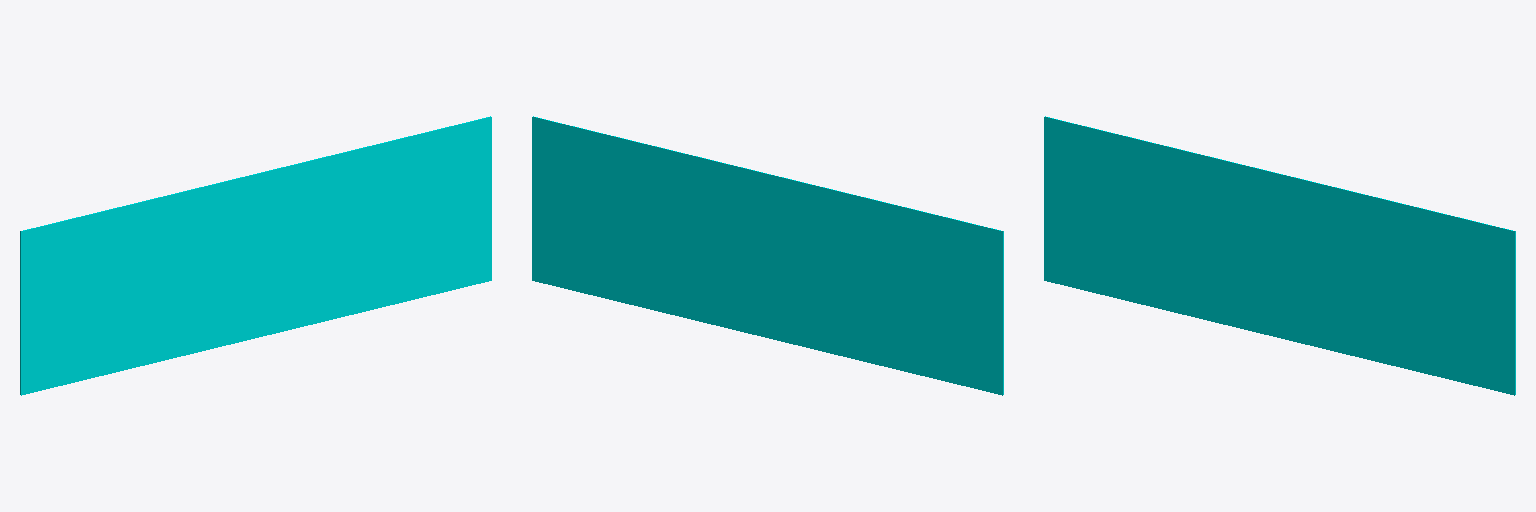
robot.urdf — ball:
<?xml version="0.0" ?>
<robot name="ball">
    <link name="wall">
        <contact>
            <lateral_friction value="1"/>
        </contact>

        <inertial>
            <origin xyz="0 0 0" rpy="0 0 0"/>
            <mass value="0.0"/>
            <inertia ixx="0"  ixy="0"  ixz="0" iyy="0" iyz="0" izz="0" />
        </inertial>

        <visual>
            <origin xyz="0 0 0" rpy="0 0 0" />
            <geometry>
                <box size="6 0.01 2" />
            </geometry>
            <material name="Cyan">
                <color rgba="0 1.0 1.0 1.0"/>
            </material>
        </visual>

        <collision>
            <origin xyz="0 0 0" rpy="0 0 0"/>
            <geometry>
                <box size="6 0.01 2" />
            </geometry>
        </collision>
    </link>
</robot>

--- What the picture shows (computed from the rendered views, not written in the file) ---
The picture shows the robot from 3 angles, left to right: view 1: azimuth 30°, elevation 25°; view 2: azimuth 150°, elevation 25°; view 3: azimuth 330°, elevation 25°; orthographic projection.
Robot: ball — 1 links, 0 joints (none); root link wall; default pose: all joints at 0.
Links seen in each view (by area): view 1: wall; view 2: wall; view 3: wall.
Link boxes in pixels (x1=…): wall: x1=20, y1=116, x2=491, y2=395; wall: x1=532, y1=116, x2=1003, y2=395; wall: x1=1044, y1=116, x2=1515, y2=395.
Size in the robot's own frame: 6 by 0.01 by 2 metres.
Geometry: primitives only (box / cylinder / sphere), no mesh files.